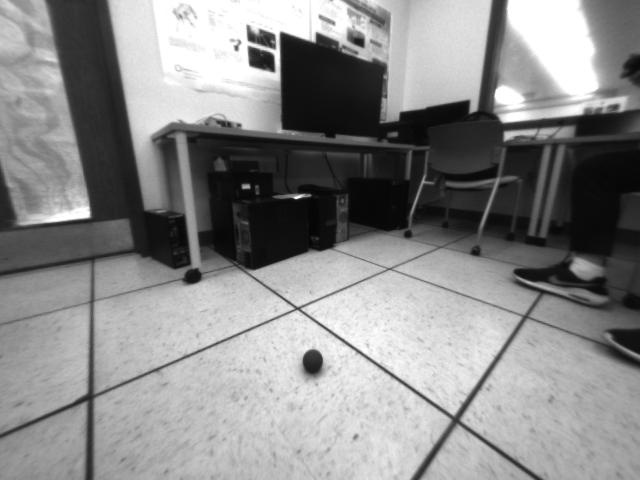dogtoy: (294, 345, 330, 377)
